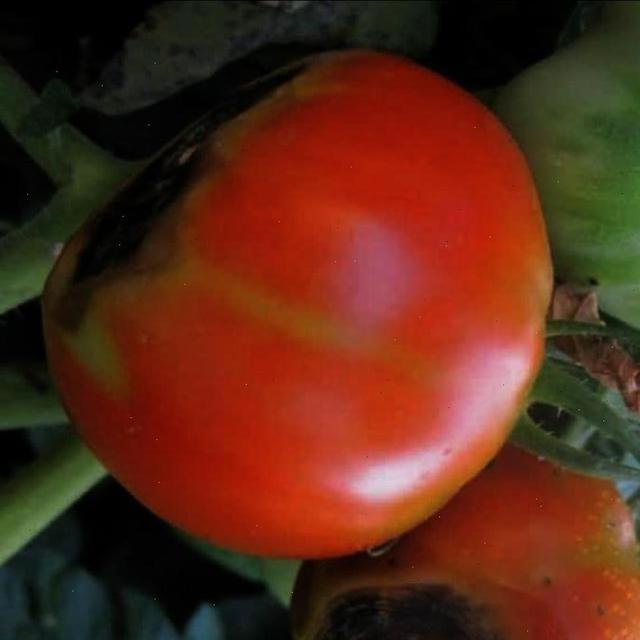Blossom End Rot Fruit: (140, 43, 292, 401)
